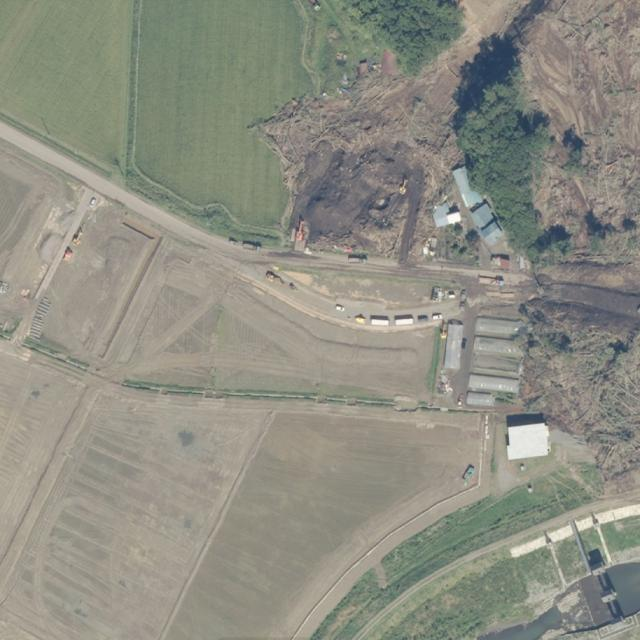landslide: (260, 0, 640, 293), (524, 286, 640, 474)
